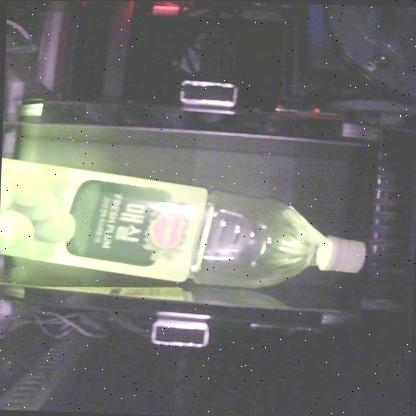Plastic Bottle: (0, 158, 366, 286)
